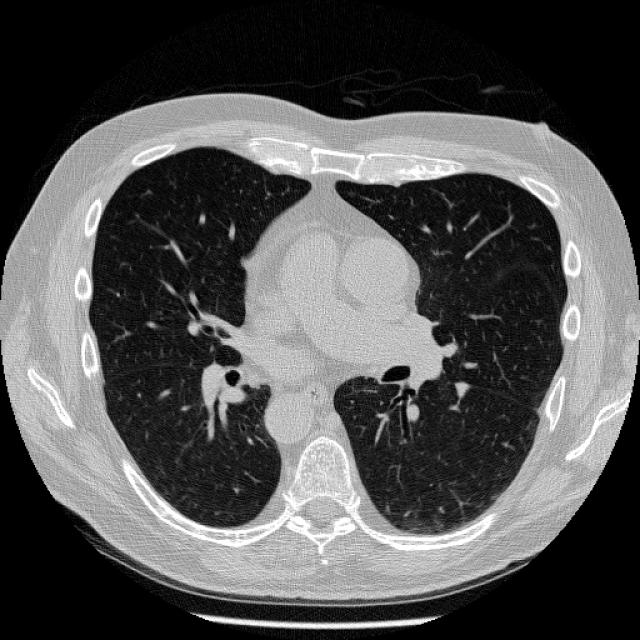nodule: (448, 371, 478, 401)
